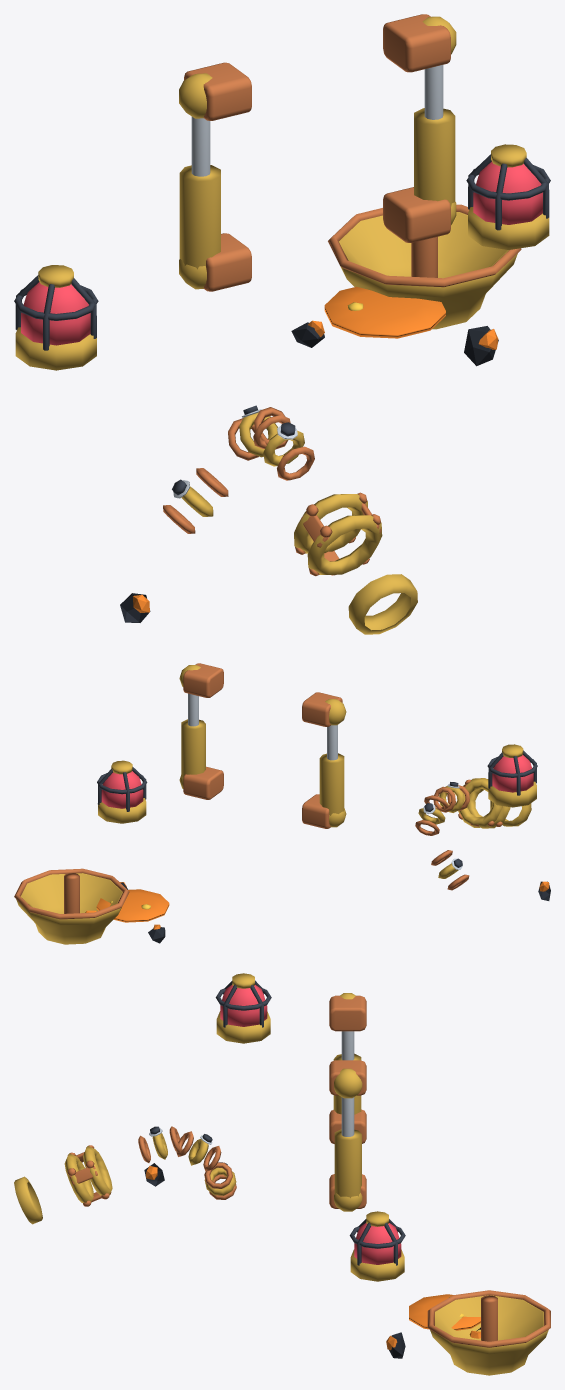
The model's file is LavaPump_T2_Upgrades.fbx.
3 views of the same model, one above another, from view 1: azimuth 30°, elevation 25°; view 2: azimuth 150°, elevation 25°; view 3: azimuth 270°, elevation 25° (orthographic). The views are drawn at different scales.
Visible parts, largest first — view 1: LavaPumpT2U5Fountain, LavaPumpT2U3Piston1, LavaPumpT2U3Piston2, LavaPumpT2U1Reinforce, LavaPumpT2U1Clamps, LavaPumpT2U2Lamp2, LavaPumpT2U2Lamp1, LavaPumpT2U5FountainGlow, LavaPumpT2U2Lamp1Glow, LavaPumpT2U2Lamp2Glow, LavaPumpT2U5GlowRocks; view 2: LavaPumpT2U5Fountain, LavaPumpT2U3Piston1, LavaPumpT2U3Piston2, LavaPumpT2U1Clamps, LavaPumpT2U2Lamp1, LavaPumpT2U2Lamp2, LavaPumpT2U1Reinforce, LavaPumpT2U5FountainGlow, LavaPumpT2U2Lamp1Glow, LavaPumpT2U2Lamp2Glow, LavaPumpT2U5GlowRocks; view 3: LavaPumpT2U5Fountain, LavaPumpT2U3Piston1, LavaPumpT2U1Reinforce, LavaPumpT2U3Piston2, LavaPumpT2U1Clamps, LavaPumpT2U2Lamp1, LavaPumpT2U2Lamp2, LavaPumpT2U2Lamp1Glow, LavaPumpT2U2Lamp2Glow, LavaPumpT2U5FountainGlow, LavaPumpT2U5GlowRocks.
Part boxes in pixels (left/top/right/bottom): LavaPumpT2U5Fountain: left=328, top=204, right=521, bottom=329; LavaPumpT2U3Piston1: left=383, top=14, right=456, bottom=242; LavaPumpT2U3Piston2: left=179, top=62, right=251, bottom=291; LavaPumpT2U1Reinforce: left=294, top=492, right=417, bottom=634; LavaPumpT2U1Clamps: left=163, top=405, right=314, bottom=533; LavaPumpT2U2Lamp2: left=466, top=144, right=550, bottom=249; LavaPumpT2U2Lamp1: left=14, top=265, right=98, bottom=370; LavaPumpT2U5FountainGlow: left=324, top=286, right=445, bottom=338; LavaPumpT2U2Lamp1Glow: left=21, top=282, right=90, bottom=345; LavaPumpT2U2Lamp2Glow: left=473, top=161, right=542, bottom=224; LavaPumpT2U5GlowRocks: left=120, top=322, right=498, bottom=622; LavaPumpT2U5Fountain: left=14, top=868, right=129, bottom=944; LavaPumpT2U3Piston1: left=179, top=663, right=223, bottom=799; LavaPumpT2U3Piston2: left=302, top=692, right=346, bottom=828; LavaPumpT2U1Clamps: left=415, top=782, right=469, bottom=890; LavaPumpT2U2Lamp1: left=487, top=744, right=537, bottom=807; LavaPumpT2U2Lamp2: left=97, top=760, right=147, bottom=823; LavaPumpT2U1Reinforce: left=458, top=778, right=531, bottom=828; LavaPumpT2U5FountainGlow: left=96, top=889, right=169, bottom=922; LavaPumpT2U2Lamp1Glow: left=492, top=755, right=533, bottom=792; LavaPumpT2U2Lamp2Glow: left=101, top=771, right=143, bottom=808; LavaPumpT2U5GlowRocks: left=120, top=881, right=550, bottom=943; LavaPumpT2U5Fountain: left=427, top=1290, right=550, bottom=1375; LavaPumpT2U3Piston1: left=329, top=1060, right=366, bottom=1211; LavaPumpT2U1Reinforce: left=14, top=1145, right=112, bottom=1224; LavaPumpT2U3Piston2: left=329, top=993, right=366, bottom=1143; LavaPumpT2U1Clamps: left=138, top=1126, right=236, bottom=1199; LavaPumpT2U2Lamp1: left=215, top=973, right=271, bottom=1043; LavaPumpT2U2Lamp2: left=349, top=1211, right=405, bottom=1281; LavaPumpT2U2Lamp1Glow: left=220, top=984, right=267, bottom=1026; LavaPumpT2U2Lamp2Glow: left=354, top=1223, right=401, bottom=1264; LavaPumpT2U5FountainGlow: left=409, top=1294, right=480, bottom=1330; LavaPumpT2U5GlowRocks: left=144, top=1163, right=480, bottom=1358.
Size of the model in its own units: 230 by 128 by 239.
